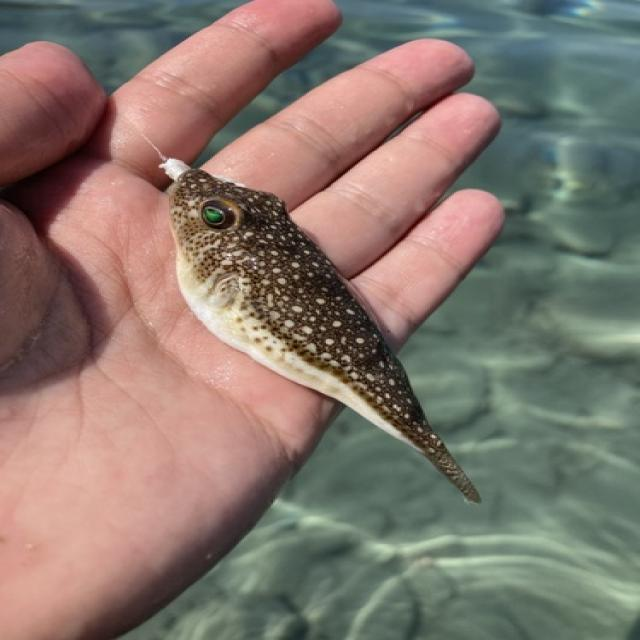Balik: (161, 157, 479, 503)
